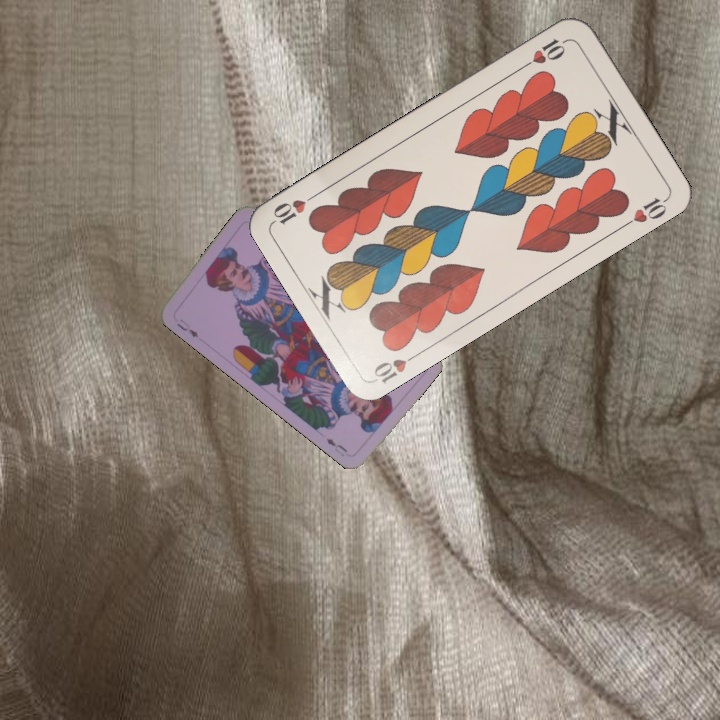EU: (173, 315, 201, 340)
H10: (517, 34, 571, 72), (369, 348, 423, 386)
